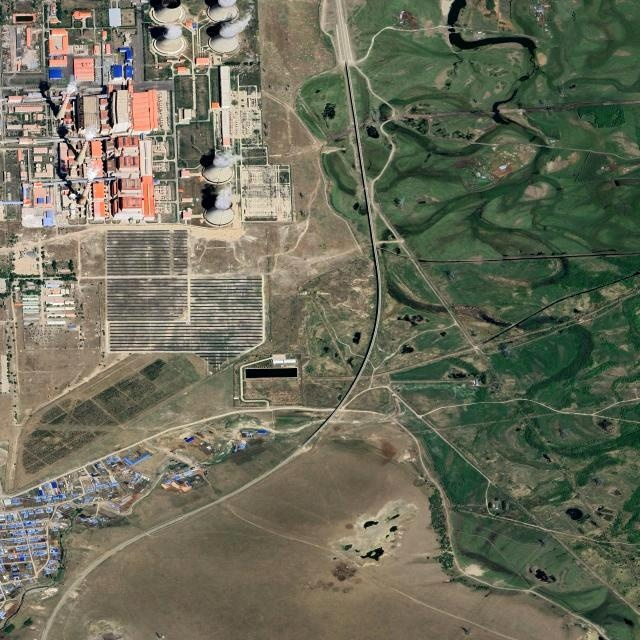coal_fired_power_plant: (0, 0, 291, 229)
